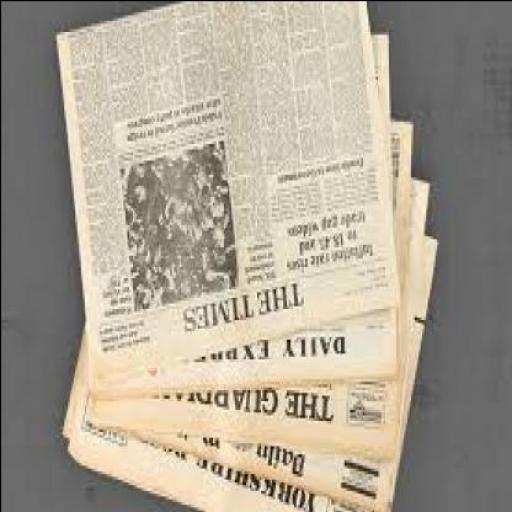paper: (58, 3, 402, 392), (69, 170, 433, 511), (94, 33, 401, 398), (102, 129, 420, 467), (62, 238, 440, 510)
